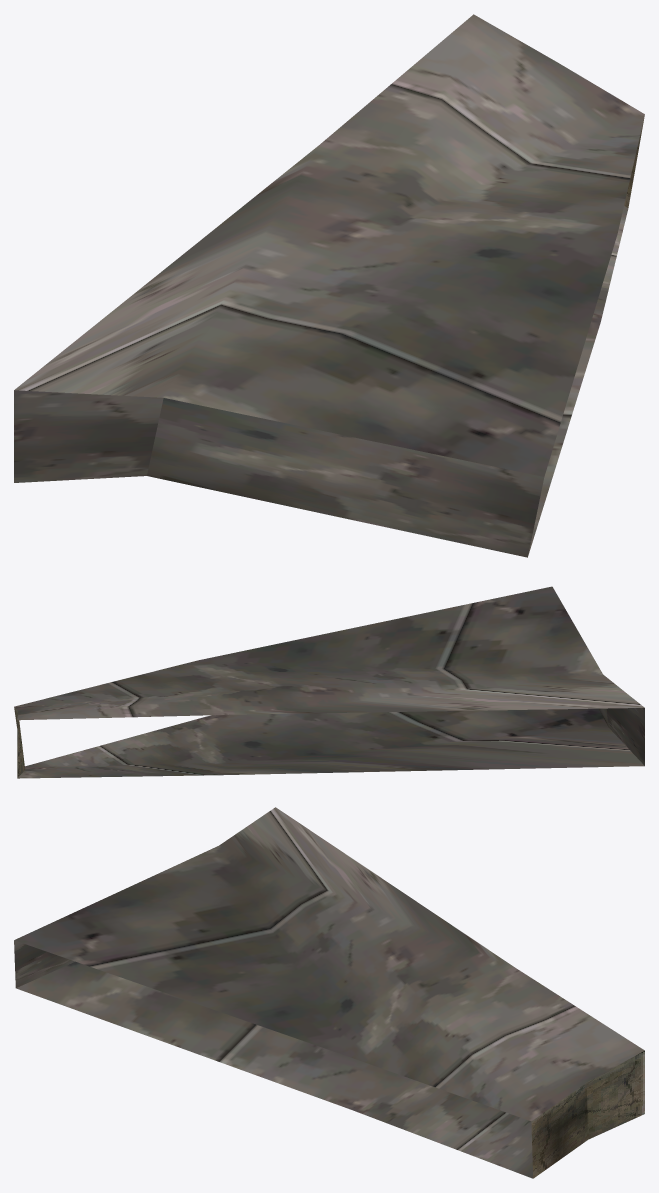
File: CH09_SMAUG_PLAYSURFACE_LAIR21.fbx
3 views of the same model, one above another, from view 1: azimuth 30°, elevation 25°; view 2: azimuth 150°, elevation 25°; view 3: azimuth 270°, elevation 25° (orthographic). The views are drawn at different scales.
Visible parts, largest first — view 1: CH09_SMAUG_PLAYSURFACE_LAIR21; view 2: CH09_SMAUG_PLAYSURFACE_LAIR21; view 3: CH09_SMAUG_PLAYSURFACE_LAIR21.
Part boxes in pixels (x1=…): CH09_SMAUG_PLAYSURFACE_LAIR21: x1=14, y1=14, x2=644, y2=557; CH09_SMAUG_PLAYSURFACE_LAIR21: x1=14, y1=586, x2=644, y2=778; CH09_SMAUG_PLAYSURFACE_LAIR21: x1=14, y1=807, x2=644, y2=1178.
Bounding box in the file's own units: 56301 × 10004 × 55031.
2 materials, 2 textured.
